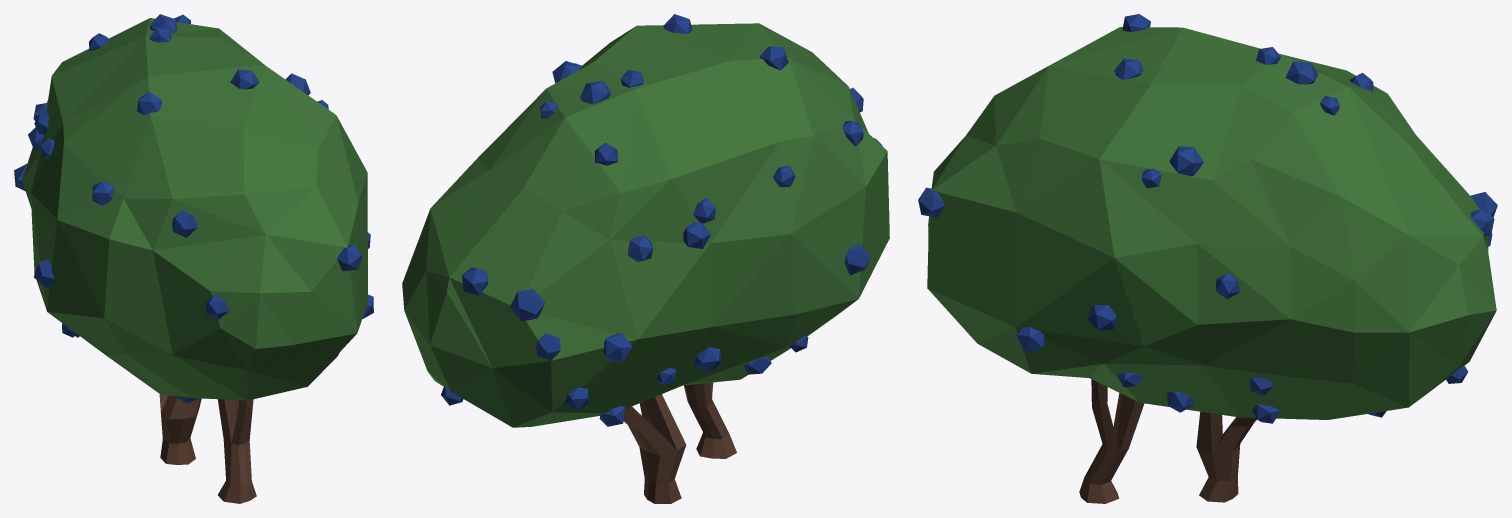
The model's file is Berry2.fbx.
The picture shows the model from 3 angles, left to right: view 1: azimuth 30°, elevation 25°; view 2: azimuth 150°, elevation 25°; view 3: azimuth 270°, elevation 25°; orthographic projection. The views are drawn at different scales.
Visible parts, largest first — view 1: Berry2.001; view 2: Berry2.001; view 3: Berry2.001.
Part boxes in pixels (x1,y1,x2,y2): Berry2.001: (14, 14, 373, 503); Berry2.001: (402, 14, 889, 503); Berry2.001: (918, 14, 1497, 503).
Bounding box in the file's own units: 107 × 131 × 153.
